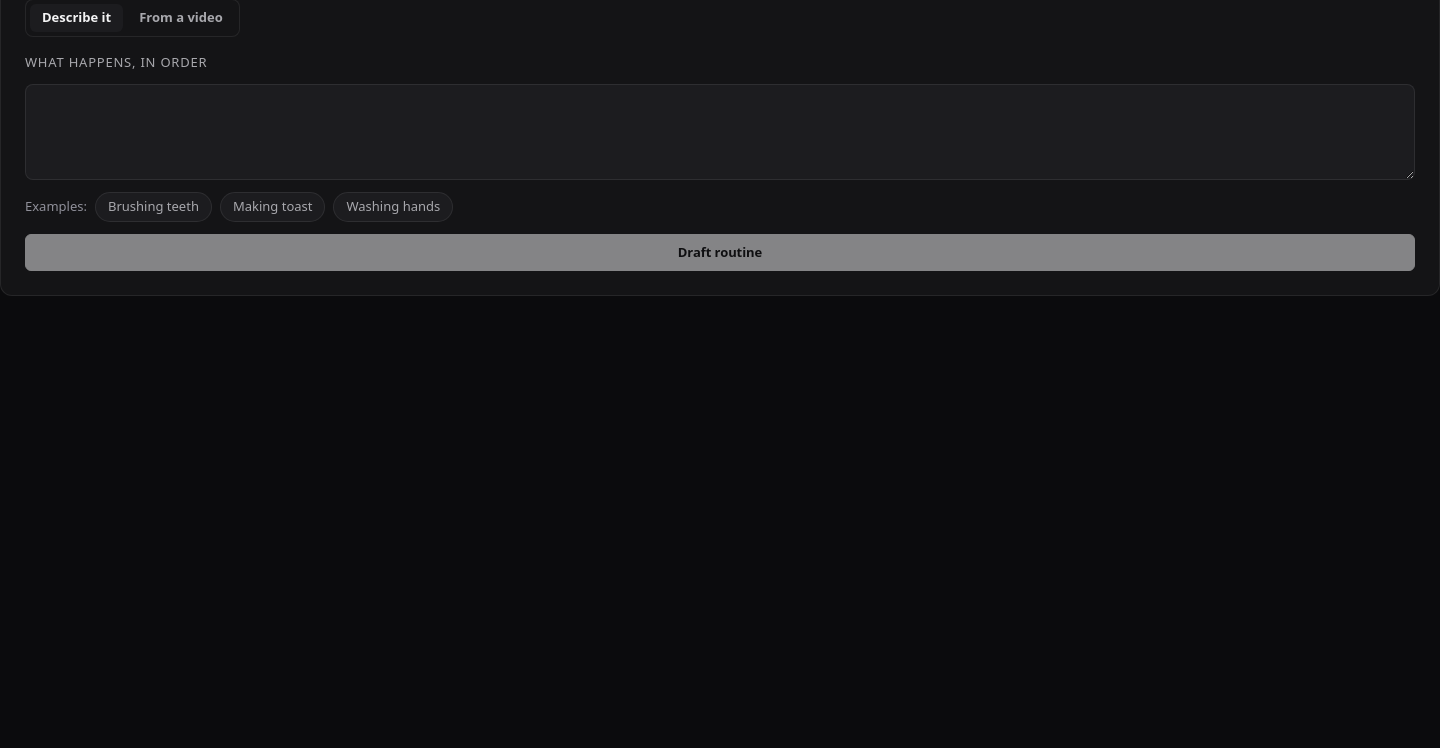
Test case: Describe it › disables submit until there is a description, then drafts a routine
expect the button "Draft routine" is disabled: met, box [25, 234, 1415, 271]
Type "Brush my teeth every morning" into the text box labelled "What happens, in order" at (720, 132), box [25, 84, 1415, 180]
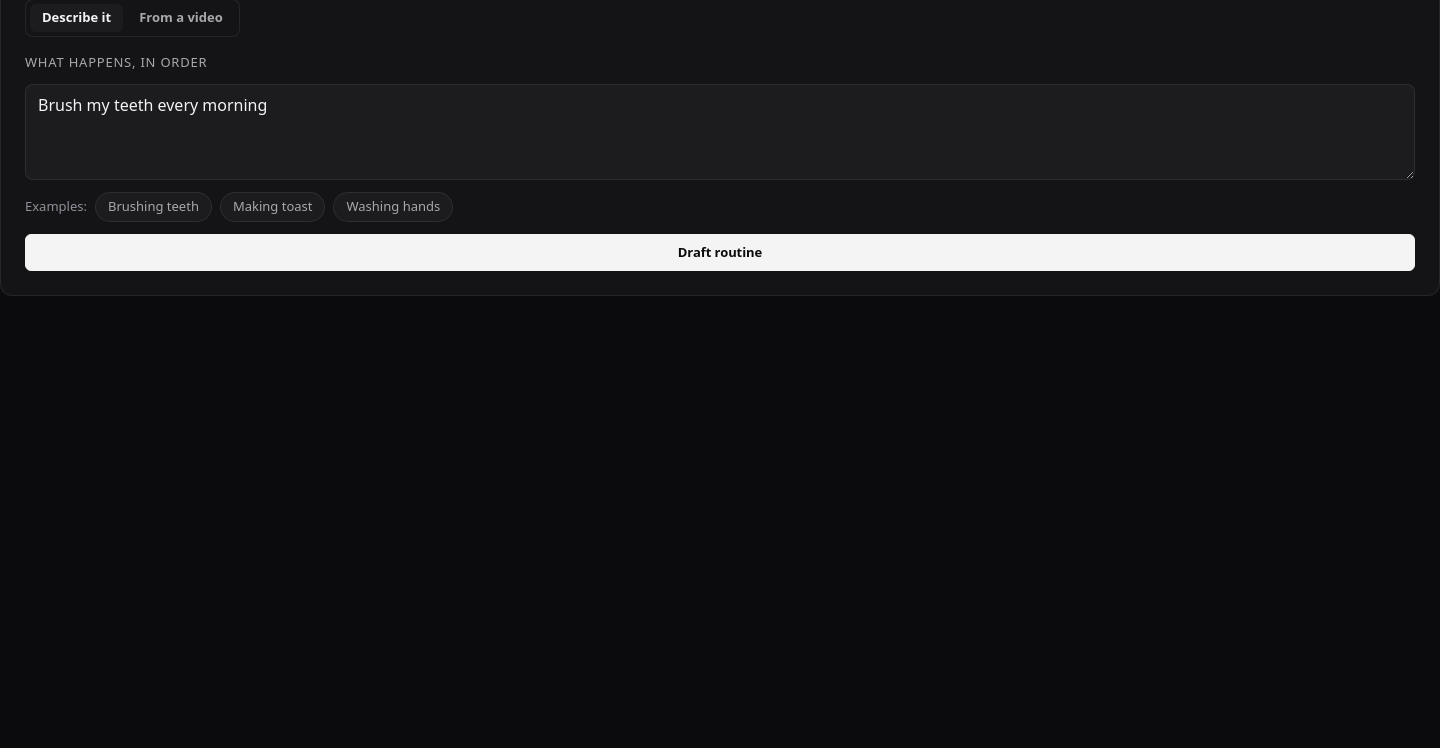
expect the button "Draft routine" is enabled: met
Click the button "Draft routine" at (720, 252), box [25, 234, 1415, 271]
(page scrolled)
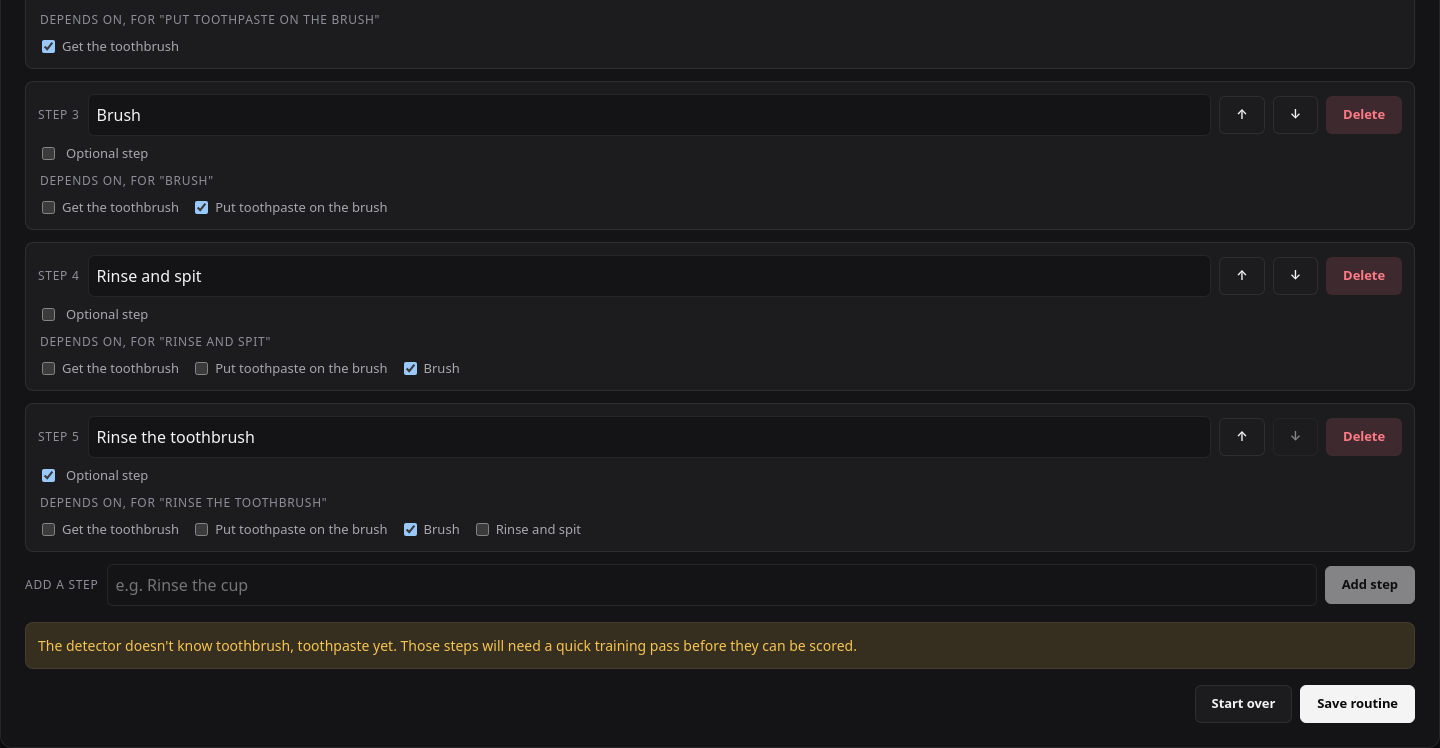
expect the text "doesn't know" is shown: met, box [38, 636, 857, 655]
